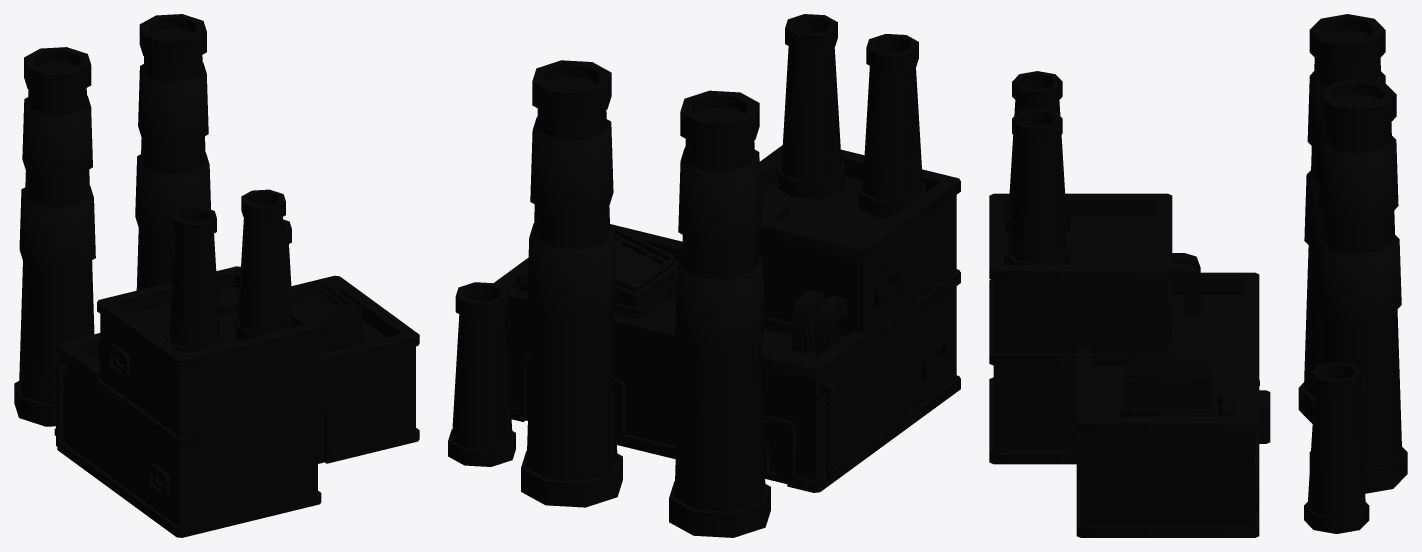
Rendered from works.glb.
3 renders of one model, left to right at view 1: azimuth 30°, elevation 25°; view 2: azimuth 150°, elevation 25°; view 3: azimuth 270°, elevation 25°, orthographic. The views are drawn at different scales.
Parts seen in each view (by area): view 1: building-e; view 2: building-e; view 3: building-e.
Boxes of the visible parts, x1,y1,x2,y2 form: building-e: (14, 14, 419, 537); building-e: (448, 14, 960, 537); building-e: (989, 14, 1407, 537).
Size of the model in its own units: 1.68 by 1.92 by 1.92.
1 material, 1 textured.
